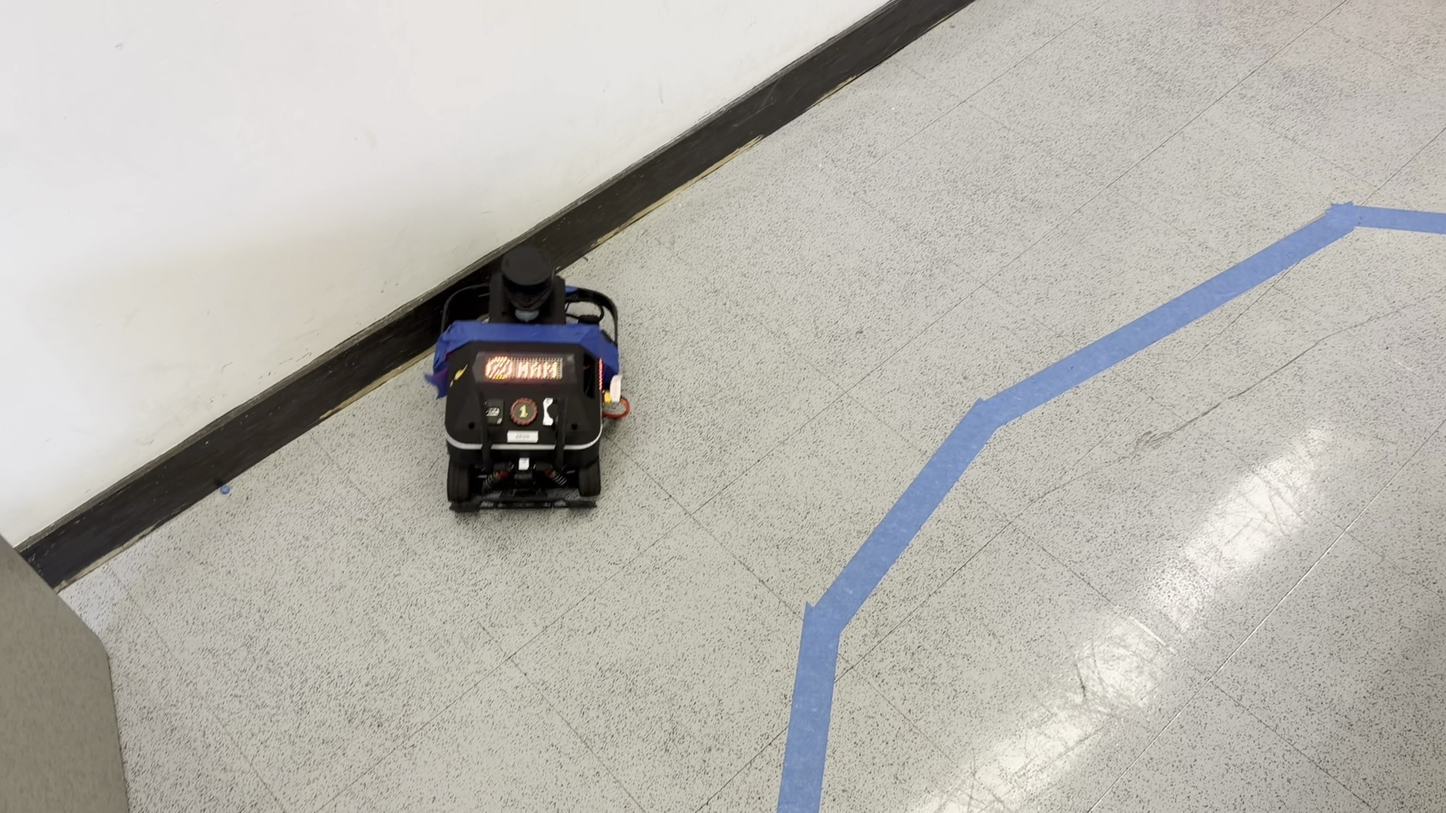racecar: (428, 258, 629, 517)
